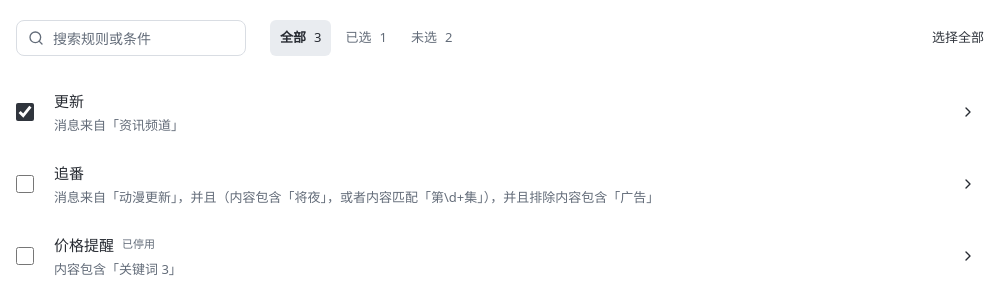
RuleSubscriptionWorkbench › limits bulk changes to matching rows and preserves other subscriptions
Type "动漫更新" into the search field named "搜索订阅规则" at (131, 38), box x1=16 y1=20 x2=246 y2=56
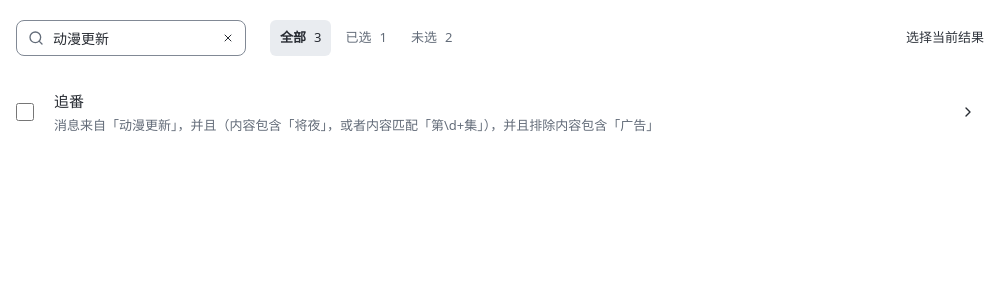
expect the number of checkboxes is 1: met, box x1=16 y1=103 x2=34 y2=121
Click the button "选择当前结果" at (945, 38), box x1=906 y1=20 x2=984 y2=56
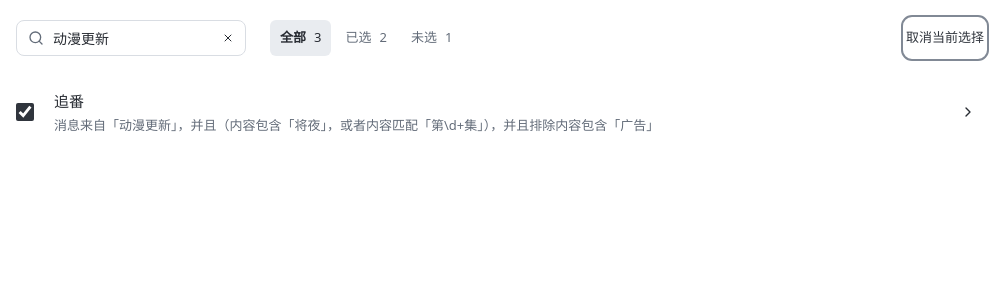
Click the button "取消当前选择" at (945, 38), box x1=906 y1=20 x2=984 y2=56
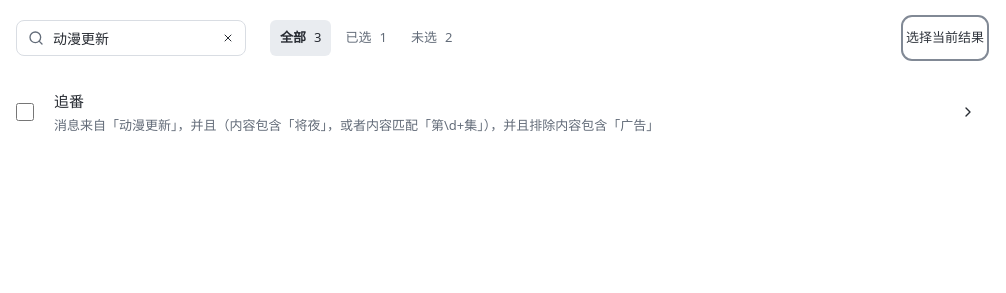
Clear the search field named "搜索订阅规则" at (131, 38), box x1=16 y1=20 x2=246 y2=56
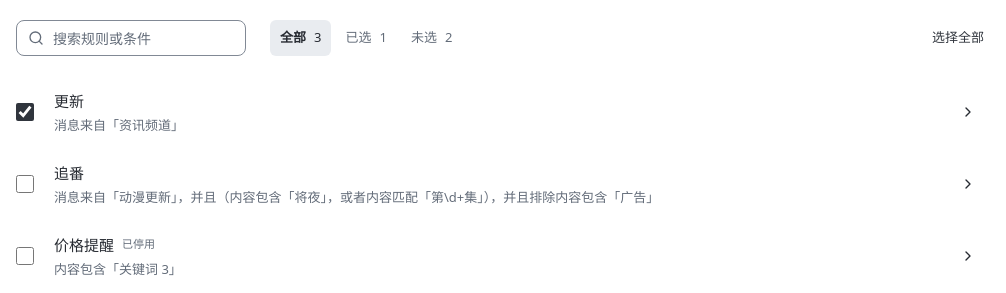
Click the button "未选 2" at (432, 38), box x1=401 y1=20 x2=462 y2=56
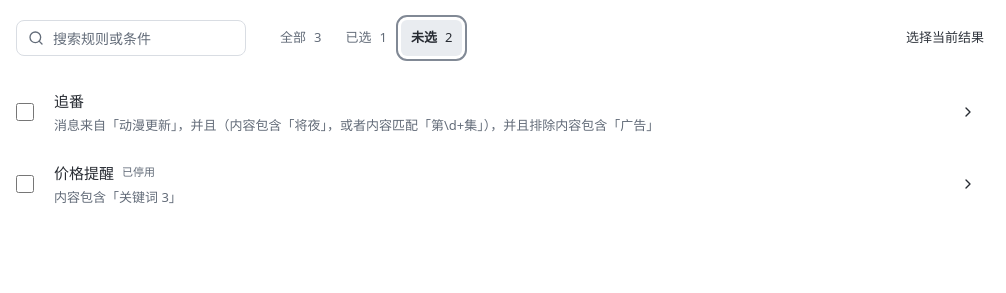
Click the button "选择当前结果" at (945, 38), box x1=906 y1=20 x2=984 y2=56
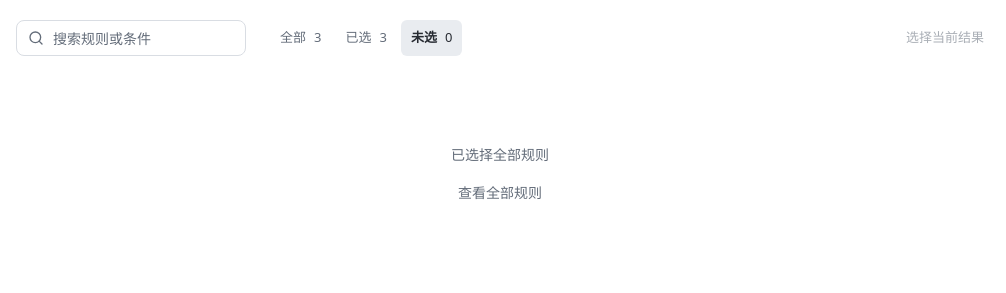
expect the text "已选择全部规则" is shown: met, box x1=451 y1=144 x2=549 y2=164
expect the button "选择当前结果" is disabled: met, box x1=906 y1=20 x2=984 y2=56
